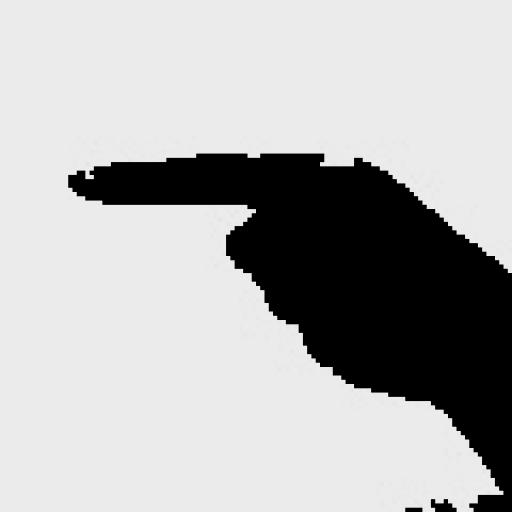index_right: (67, 151, 512, 369)
